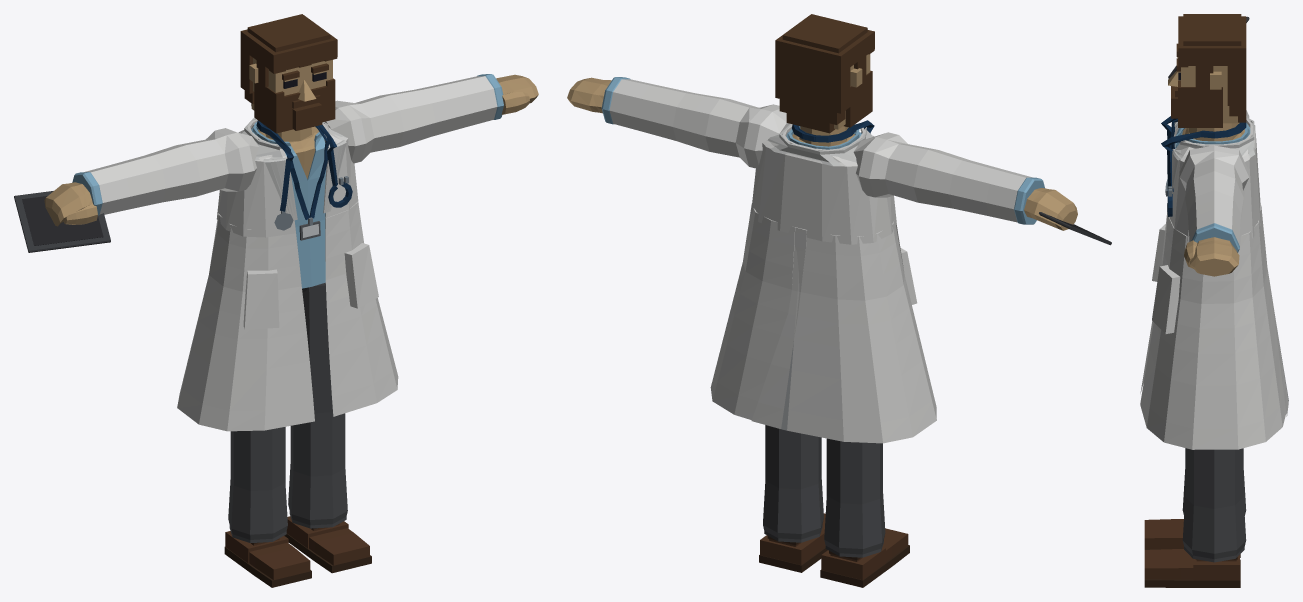
The model's file is doctor-d49de0.glb.
The picture shows the model from 3 angles, left to right: view 1: azimuth 30°, elevation 25°; view 2: azimuth 150°, elevation 25°; view 3: azimuth 270°, elevation 25°; orthographic projection. The views are drawn at different scales.
Parts seen in each view (by area): view 1: doctor-d49de0; view 2: doctor-d49de0; view 3: doctor-d49de0.
Boxes of the visible parts, box(x1,y1,x2,y2) form: doctor-d49de0: box(14, 14, 538, 587); doctor-d49de0: box(567, 14, 1111, 587); doctor-d49de0: box(1140, 14, 1288, 587).
Size of the model in its own units: 1.77 by 1.73 by 0.4352.
